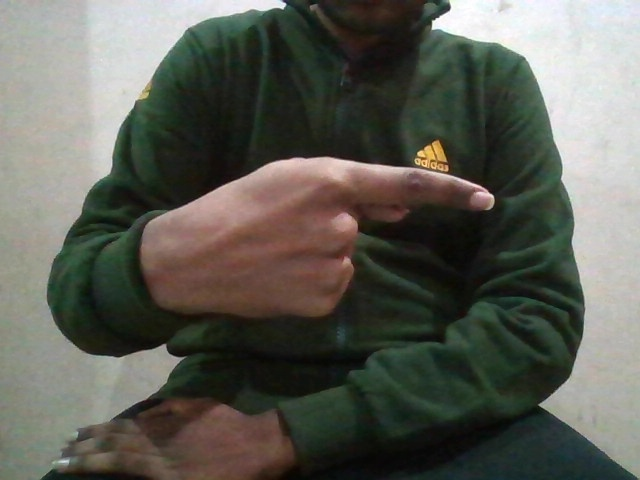G: (141, 144, 509, 320)
